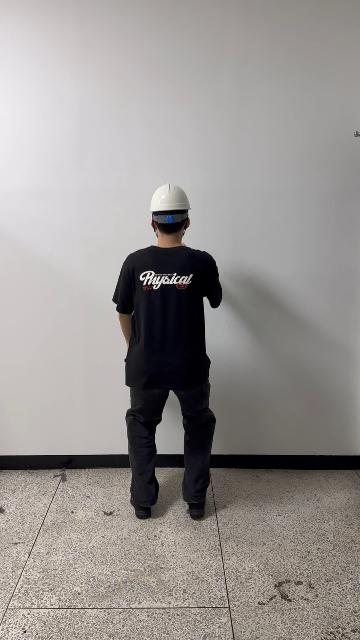helmet_worn: (149, 182, 192, 213)
shoe_worn: (131, 498, 151, 519), (187, 500, 205, 519)
vest_not_worn: (122, 249, 213, 403)
